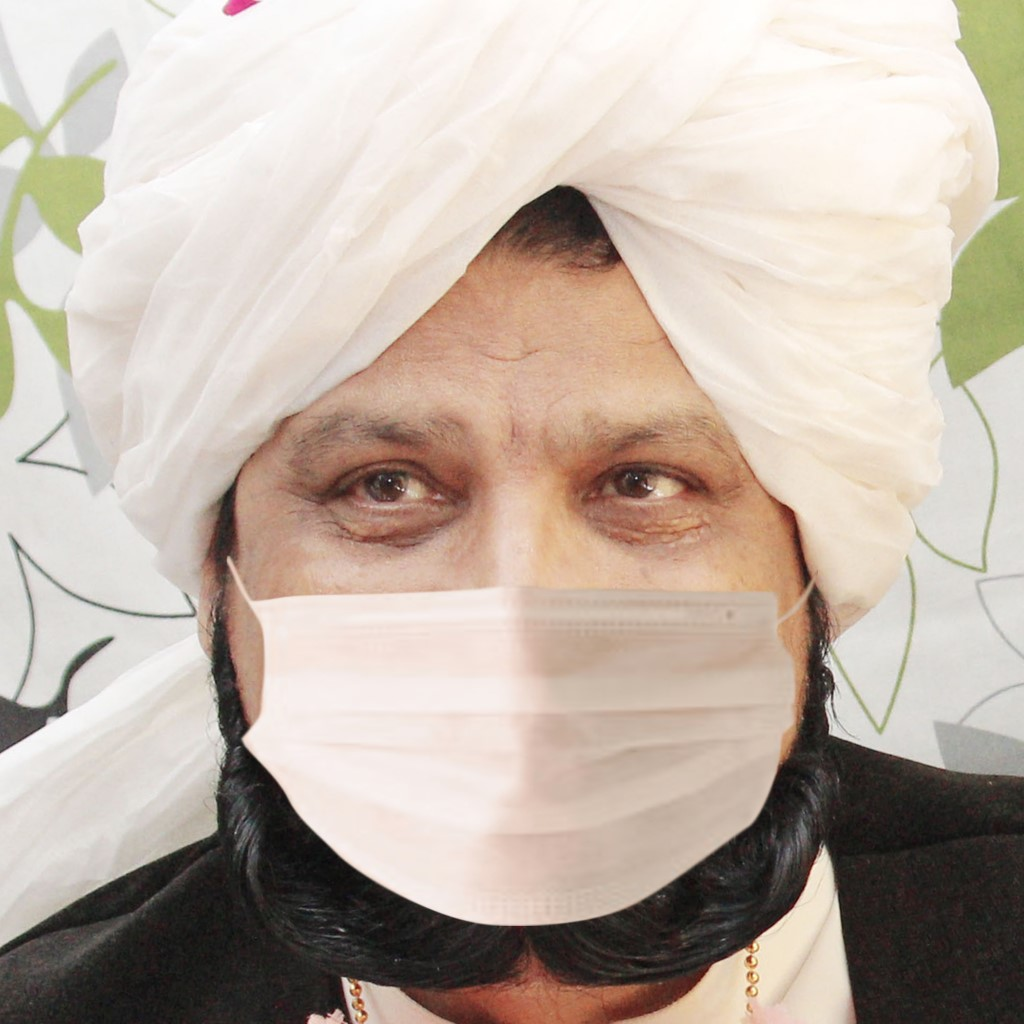con_mascara: (251, 200, 810, 952)
